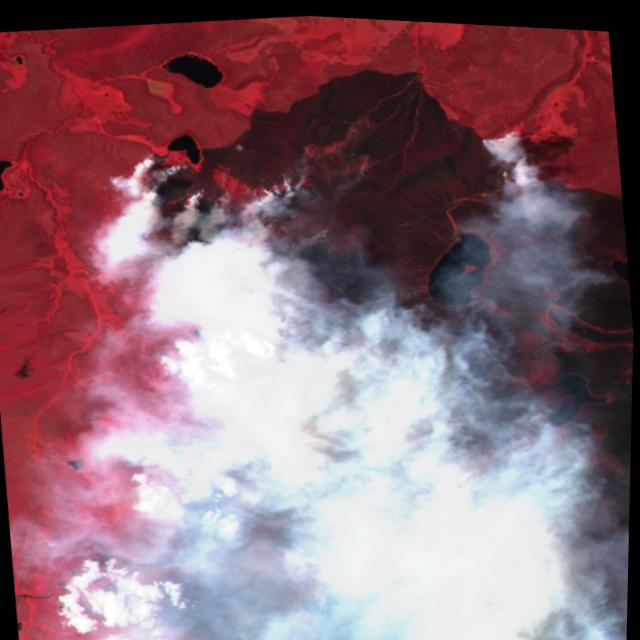fire: (110, 92, 585, 502)
